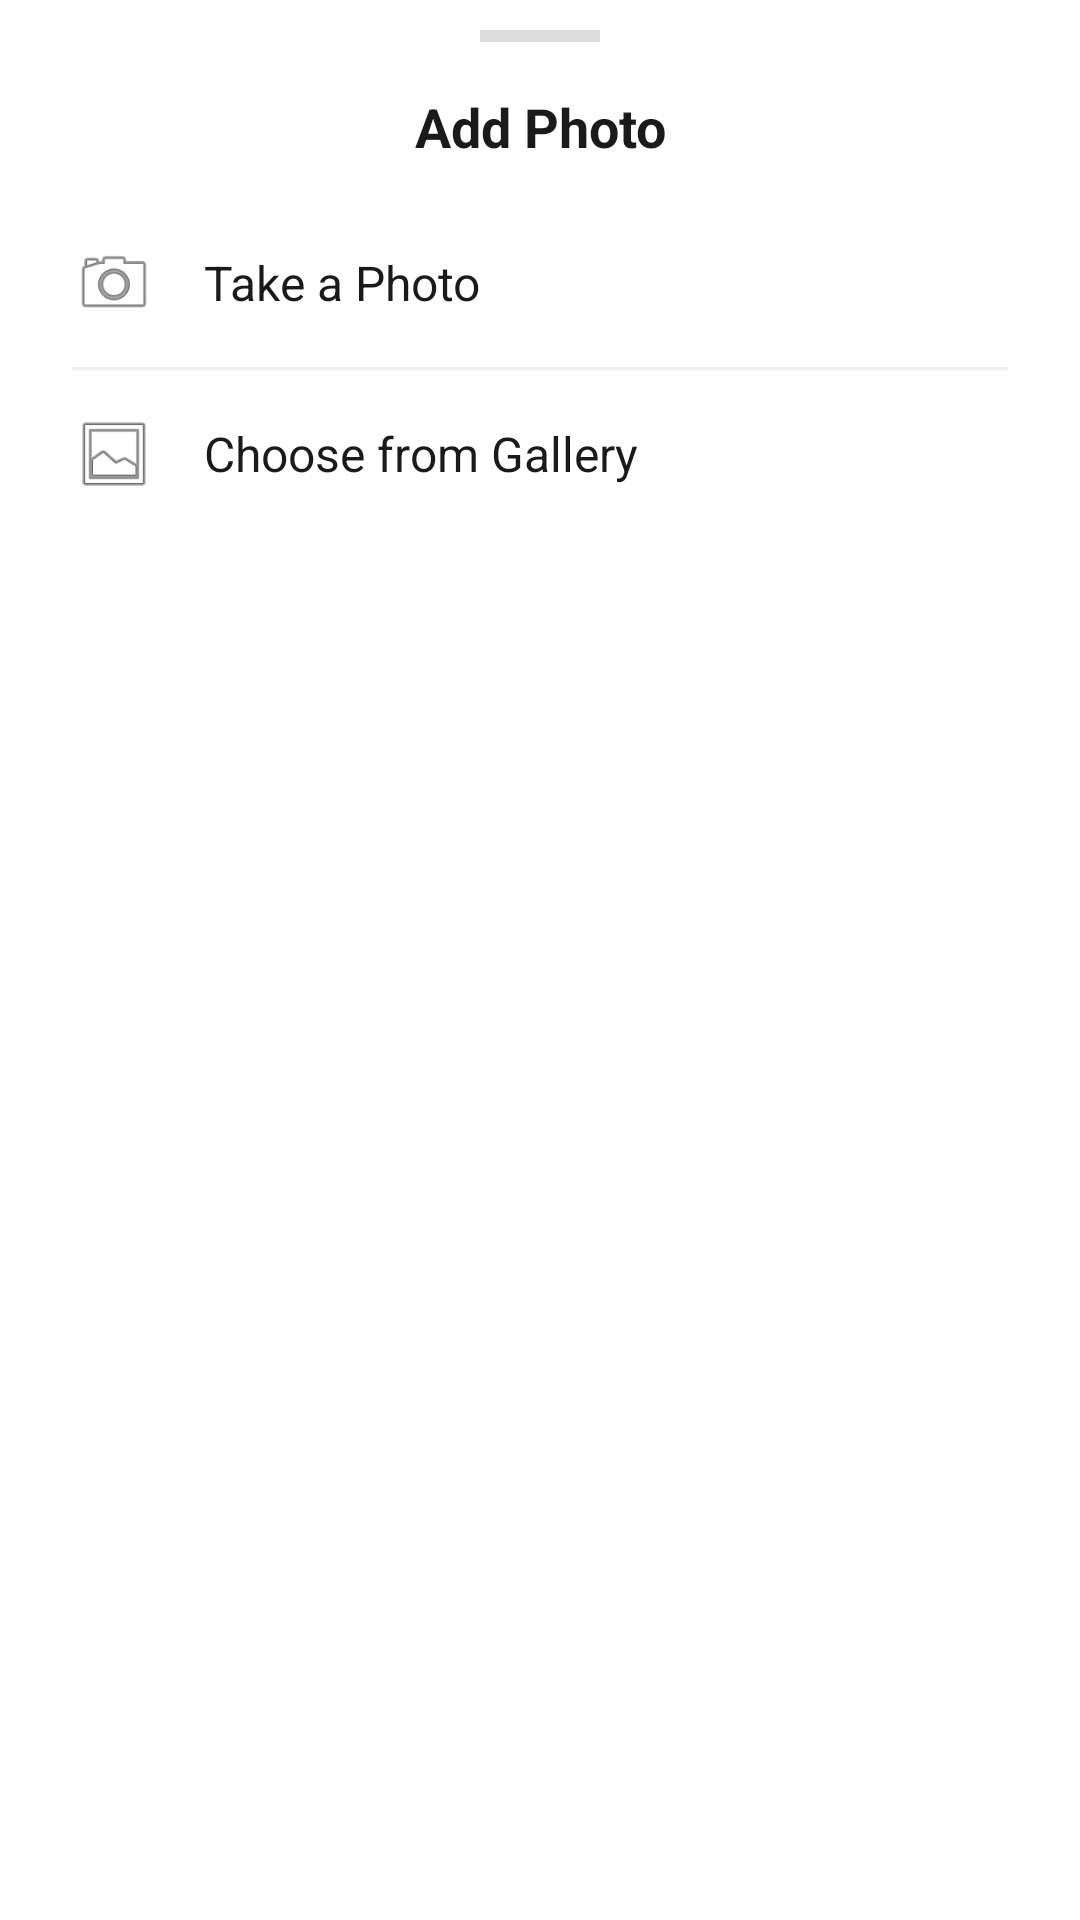

Point at icon controls on the screen. Image size 1080x1920, points as (x=x, y=y).
camera: (x=114, y=282)
